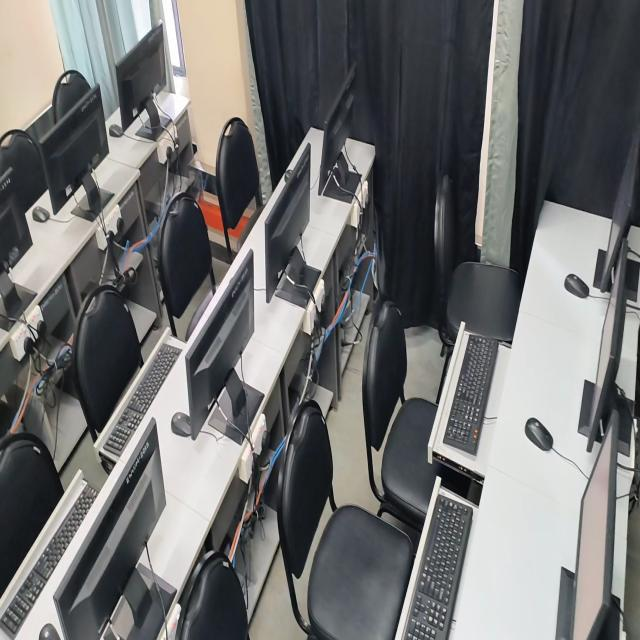Chair: (277, 401, 414, 639), (362, 300, 438, 532), (435, 175, 523, 350), (73, 284, 142, 441), (0, 432, 64, 597), (158, 192, 212, 334), (215, 117, 262, 256), (176, 551, 249, 639), (0, 130, 47, 212), (52, 71, 91, 122)
Keyboard: (0, 478, 98, 635), (395, 478, 477, 639), (94, 328, 183, 469), (443, 334, 499, 455)
Monitor: (54, 424, 164, 639), (185, 251, 253, 439), (571, 411, 619, 639), (38, 85, 109, 213), (587, 239, 628, 451), (265, 144, 311, 302), (600, 125, 640, 290), (116, 24, 167, 130), (318, 65, 356, 194), (0, 168, 32, 272)
Mouse: (525, 418, 553, 452), (564, 274, 589, 298), (171, 412, 191, 437), (39, 623, 60, 639), (32, 206, 50, 222), (109, 124, 123, 137)
